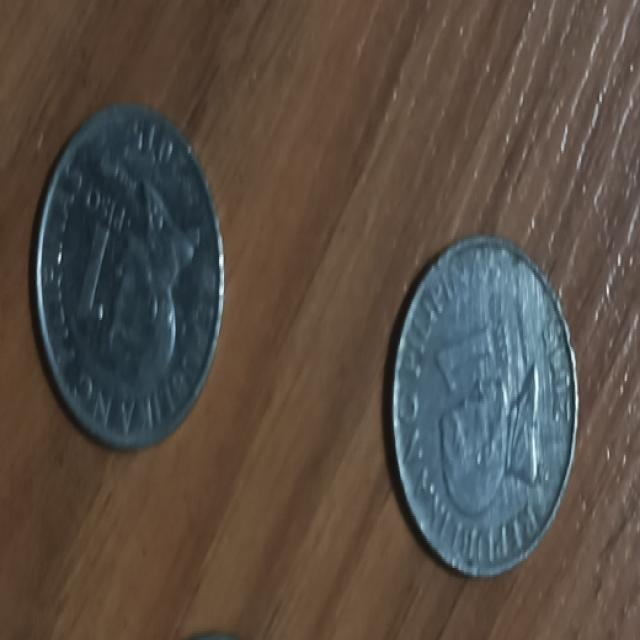1_peso: (386, 237, 577, 575), (37, 104, 223, 448)
